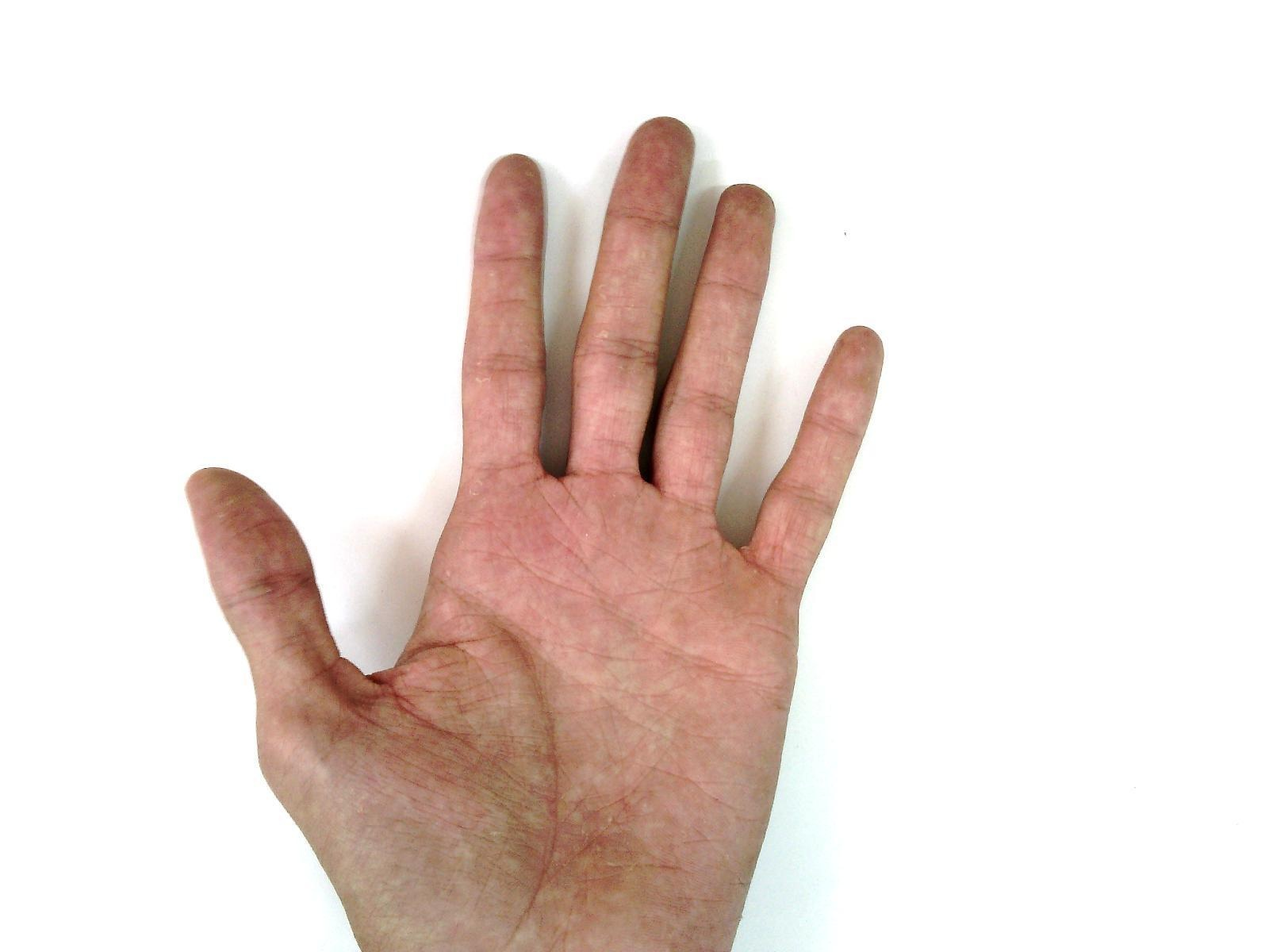open_palm: (183, 115, 888, 951)
